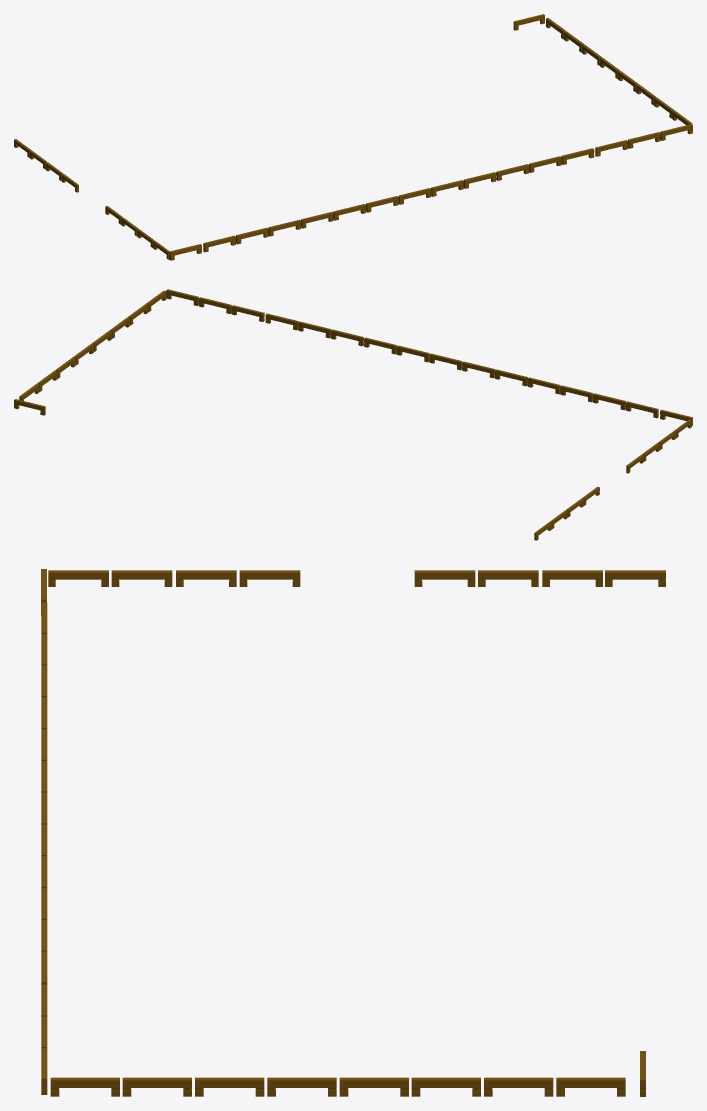
File: rail.glb
The picture shows the model from 3 angles, top to bottom: view 1: azimuth 30°, elevation 25°; view 2: azimuth 150°, elevation 25°; view 3: azimuth 270°, elevation 25°; orthographic projection. The views are drawn at different scales.
Parts seen in each view (by area): view 1: rail.009; view 2: rail.009; view 3: rail.009.
Part boxes in pixels (x1,y1,x2,y2): rail.009: (14, 14, 692, 260); rail.009: (14, 289, 692, 540); rail.009: (41, 569, 665, 1096).
Size of the model in its own units: 8.43 by 0.1269 by 4.35.
